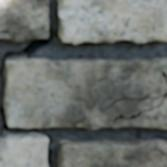brick: (6, 58, 166, 129), (59, 0, 166, 43), (58, 140, 166, 166), (0, 0, 49, 41), (0, 134, 48, 166)
crack: (0, 2, 55, 164), (0, 30, 10, 34)
